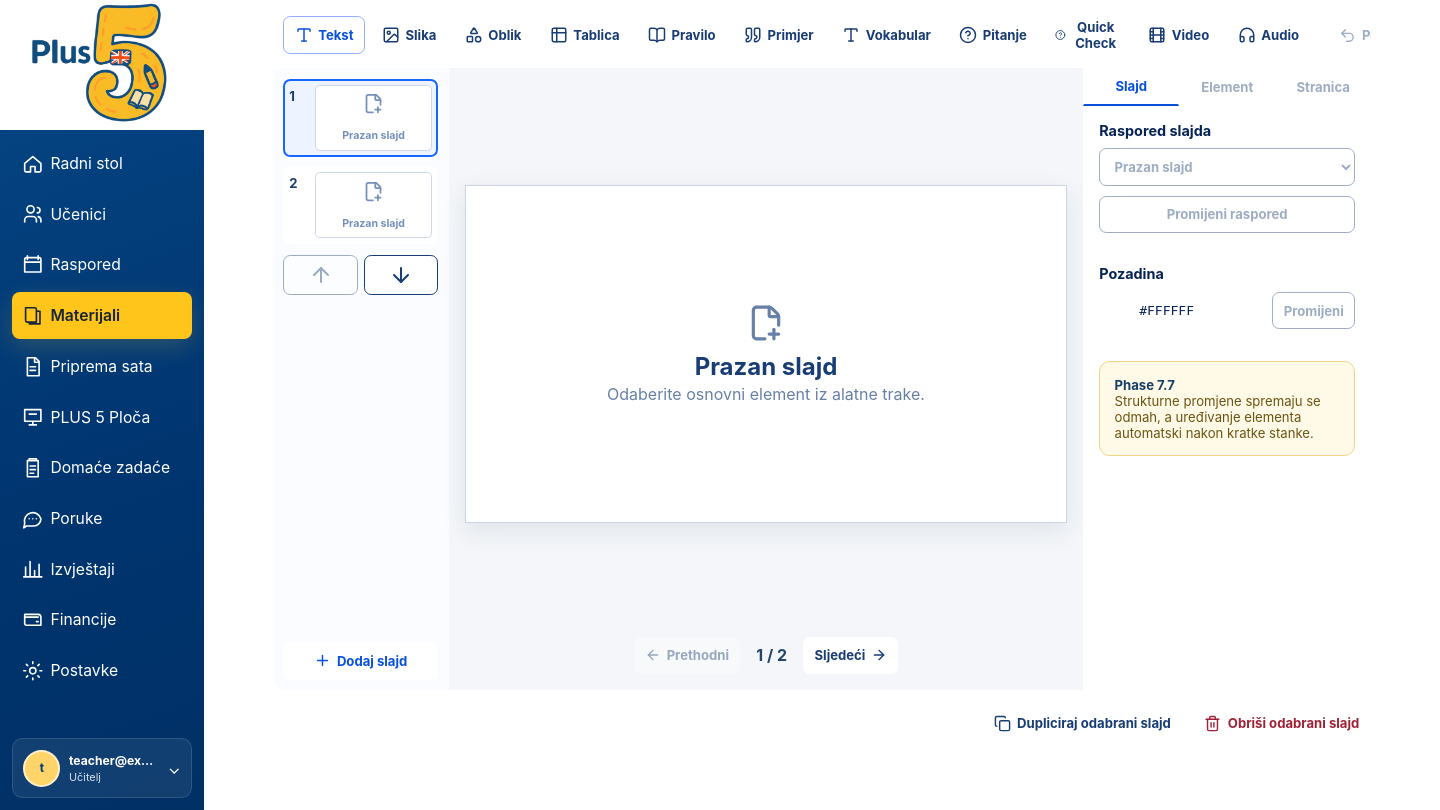
it: presentation slide editor › renders canonical slide structure and adds an empty slide with document concurrency
The image size is (1440, 810).
(page scrolled)
Expected: the text "Prazan slajd" is shown 2 times, top-left (342, 129), bottom-right (405, 142); top-left (342, 217), bottom-right (405, 230)
Click the button "Dodaj slajd".
click(361, 661)  # box top-left (283, 642), bottom-right (438, 680)
(page scrolled)
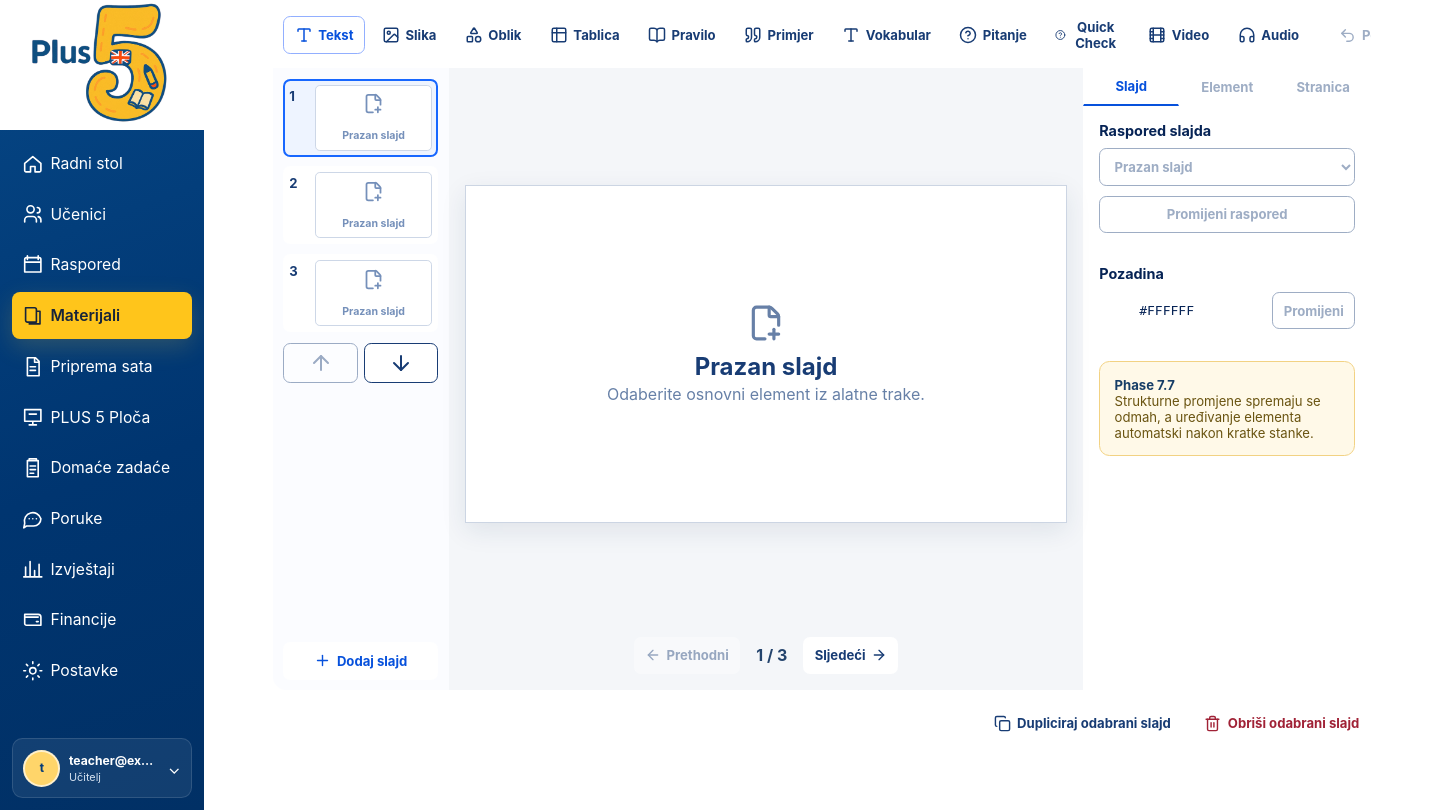
Now the text "Prazan slajd" is shown 3 times, box top-left (342, 129), bottom-right (405, 142); top-left (342, 217), bottom-right (405, 230); top-left (342, 305), bottom-right (405, 318)
